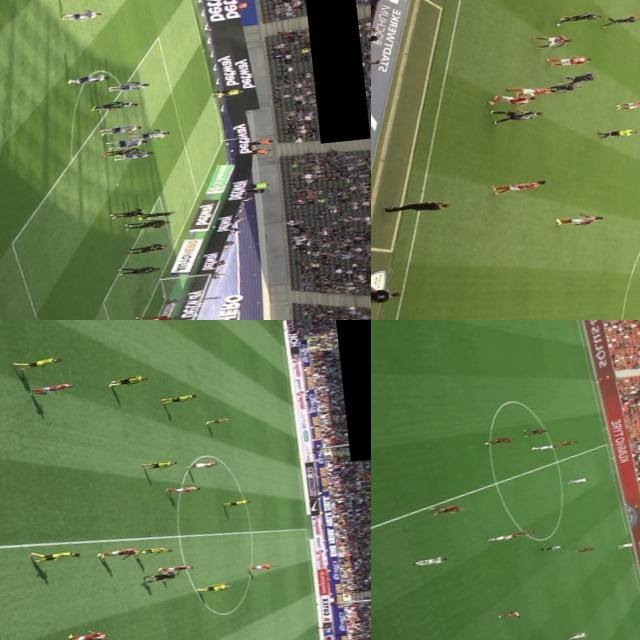player: (489, 104, 546, 125), (487, 179, 550, 195), (488, 90, 539, 108), (506, 81, 555, 98), (554, 211, 606, 227), (107, 78, 154, 95), (22, 381, 78, 395), (542, 52, 591, 67), (13, 356, 62, 371), (32, 549, 82, 563), (94, 546, 140, 561), (60, 8, 105, 22), (132, 128, 174, 142), (118, 263, 160, 277), (426, 502, 467, 516), (124, 218, 168, 231), (158, 561, 197, 575), (562, 12, 600, 26), (98, 99, 141, 111), (604, 13, 640, 27), (560, 72, 598, 85), (535, 34, 570, 48), (124, 243, 168, 254), (104, 375, 148, 386), (70, 73, 110, 85), (543, 82, 586, 93), (66, 629, 109, 640), (105, 122, 144, 134), (119, 150, 158, 162), (92, 100, 130, 112), (410, 555, 450, 566), (186, 458, 222, 470), (104, 138, 146, 148), (164, 482, 199, 494), (136, 545, 173, 556), (158, 394, 198, 404), (109, 208, 148, 218), (139, 210, 177, 220), (196, 582, 232, 592), (526, 441, 556, 453), (131, 312, 174, 320), (105, 147, 143, 156), (480, 436, 514, 446), (141, 459, 174, 469), (486, 532, 516, 542), (615, 99, 640, 110), (562, 476, 588, 486), (221, 498, 249, 507), (550, 439, 578, 448), (510, 529, 535, 539), (203, 416, 233, 424), (521, 426, 547, 435), (248, 562, 274, 570), (498, 610, 522, 618), (564, 632, 587, 640), (574, 545, 596, 553), (613, 542, 635, 548)
